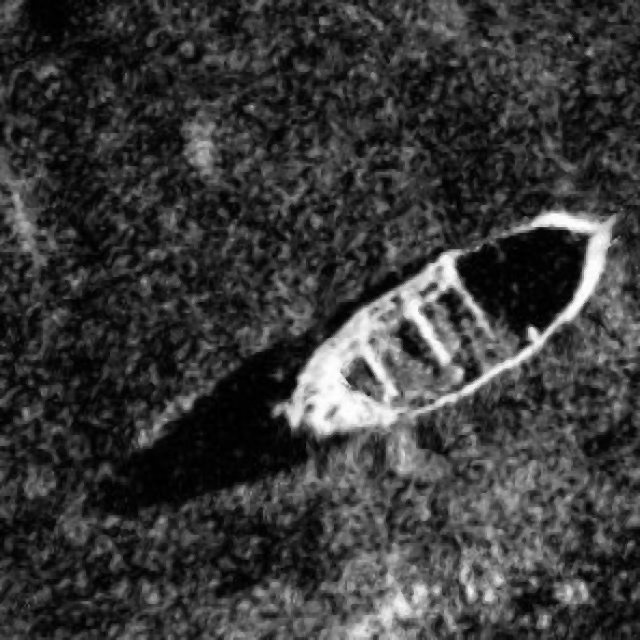Ship: (261, 183, 628, 484)
